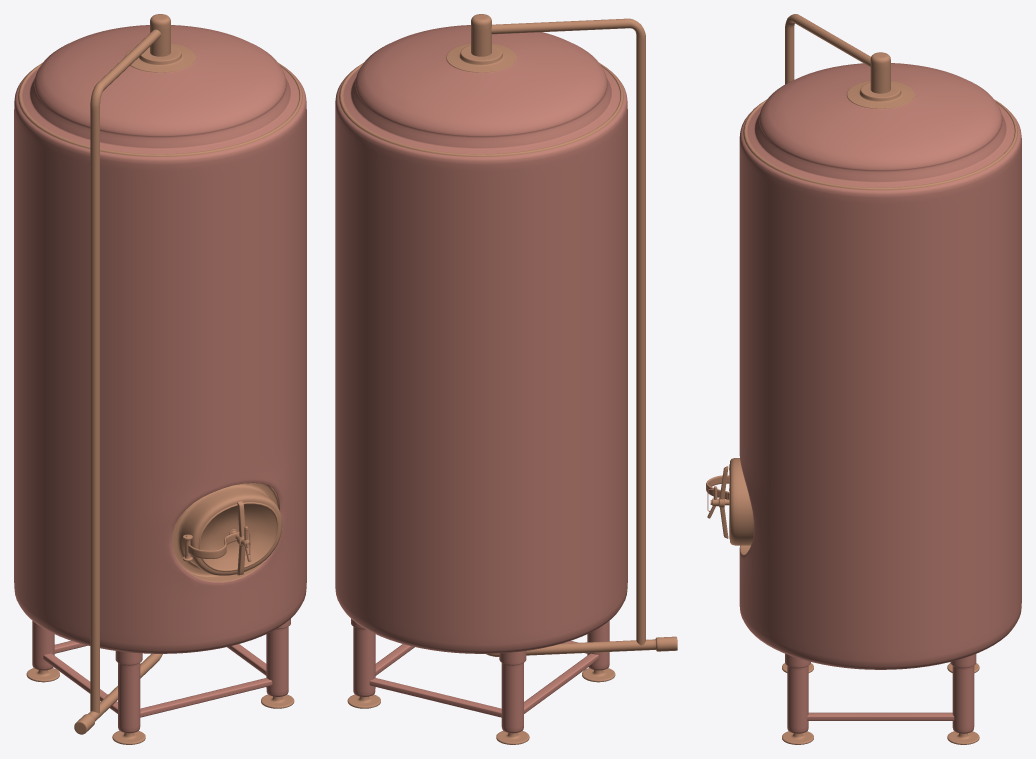
The model's file is beer_tank.fbx.
3 views of the same model, side by side, from view 1: azimuth 30°, elevation 25°; view 2: azimuth 150°, elevation 25°; view 3: azimuth 270°, elevation 25° (orthographic). The views are drawn at different scales.
Visible parts, largest first — view 1: beer_tank_tall; view 2: beer_tank_tall; view 3: beer_tank_tall.
Boxes of the visible parts, x1,y1,x2,y2 form: beer_tank_tall: (14,14,306,744); beer_tank_tall: (335,14,677,744); beer_tank_tall: (706,14,1021,744).
Bounding box in the file's own units: 114 × 274 × 121.
